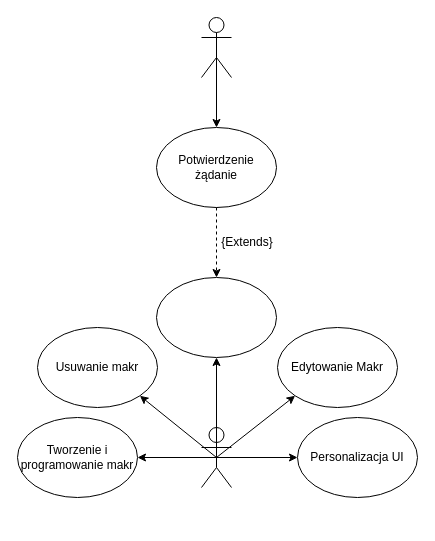
Image size: 435x541. Some labels were removed from this diagram. The shapes that lost their labels are listed below. From the top down, each one's centre as x and y in pixels, then its label:
At (x=216, y=47): "Serwer".
At (x=216, y=317): "Wysłanie żądania do odpalenia makra".
At (x=216, y=457): "Użytkownik".
